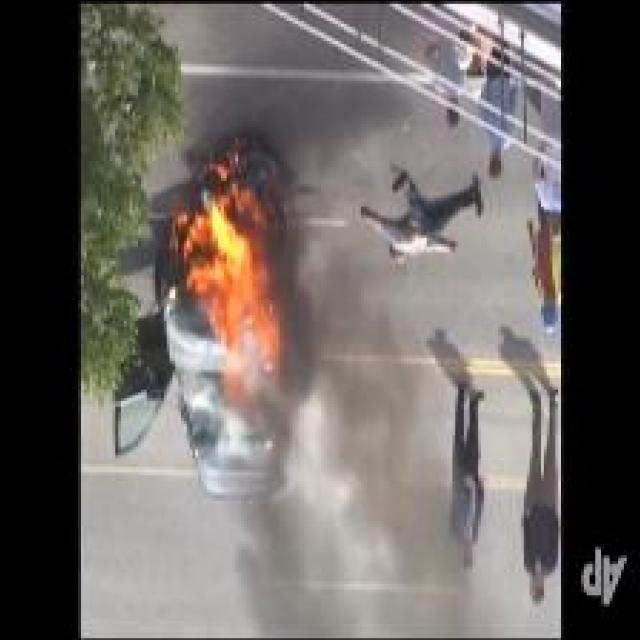Fire: (172, 182, 284, 416)
